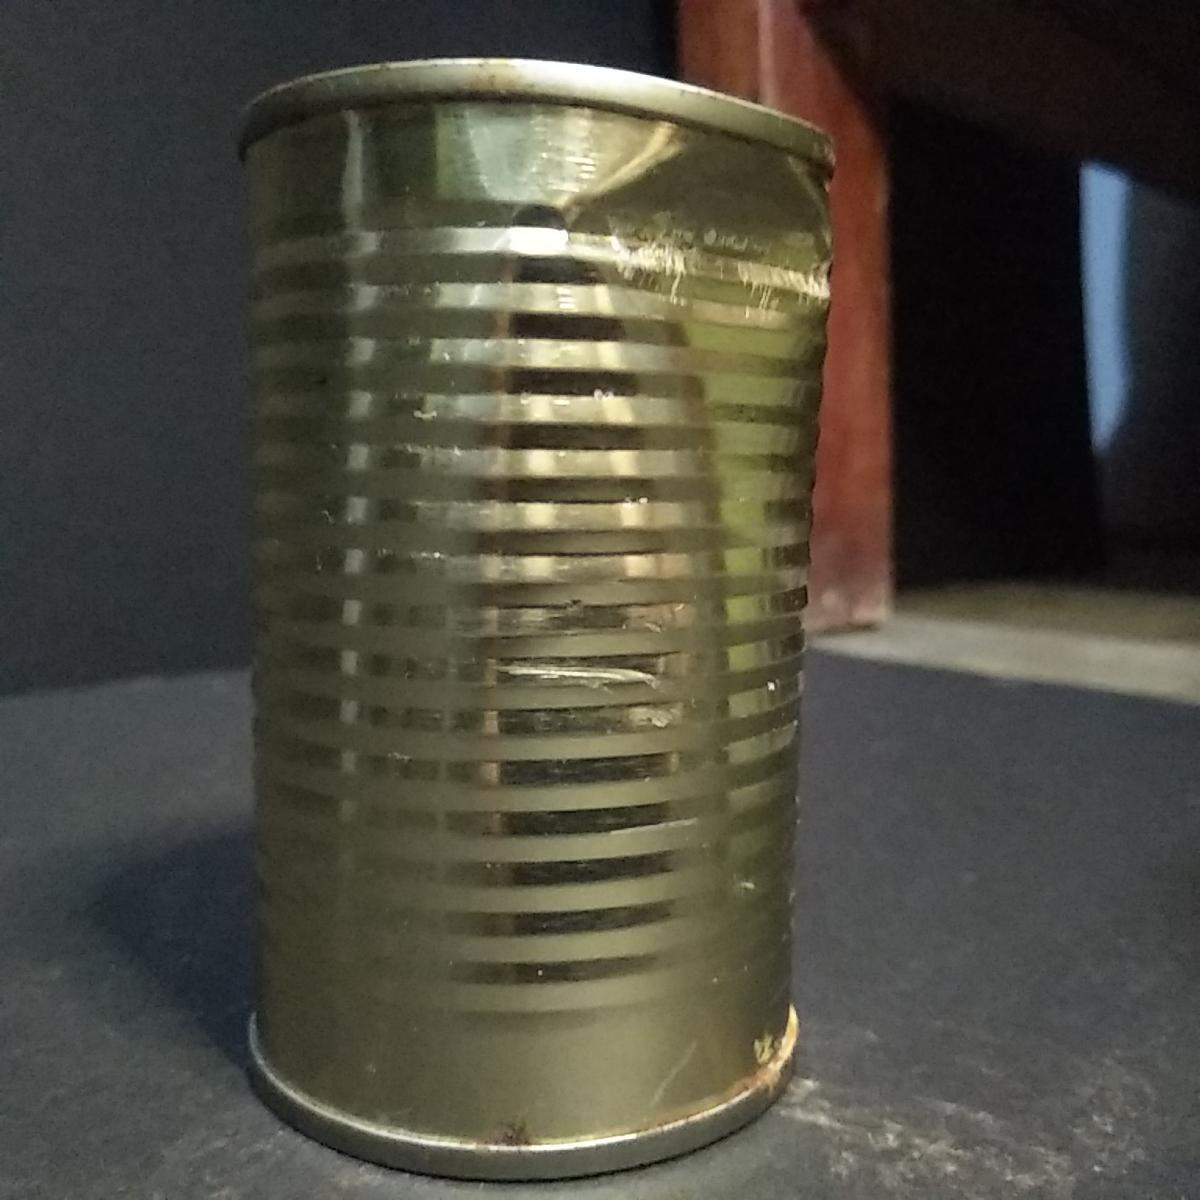Dented: (224, 42, 827, 1180)
